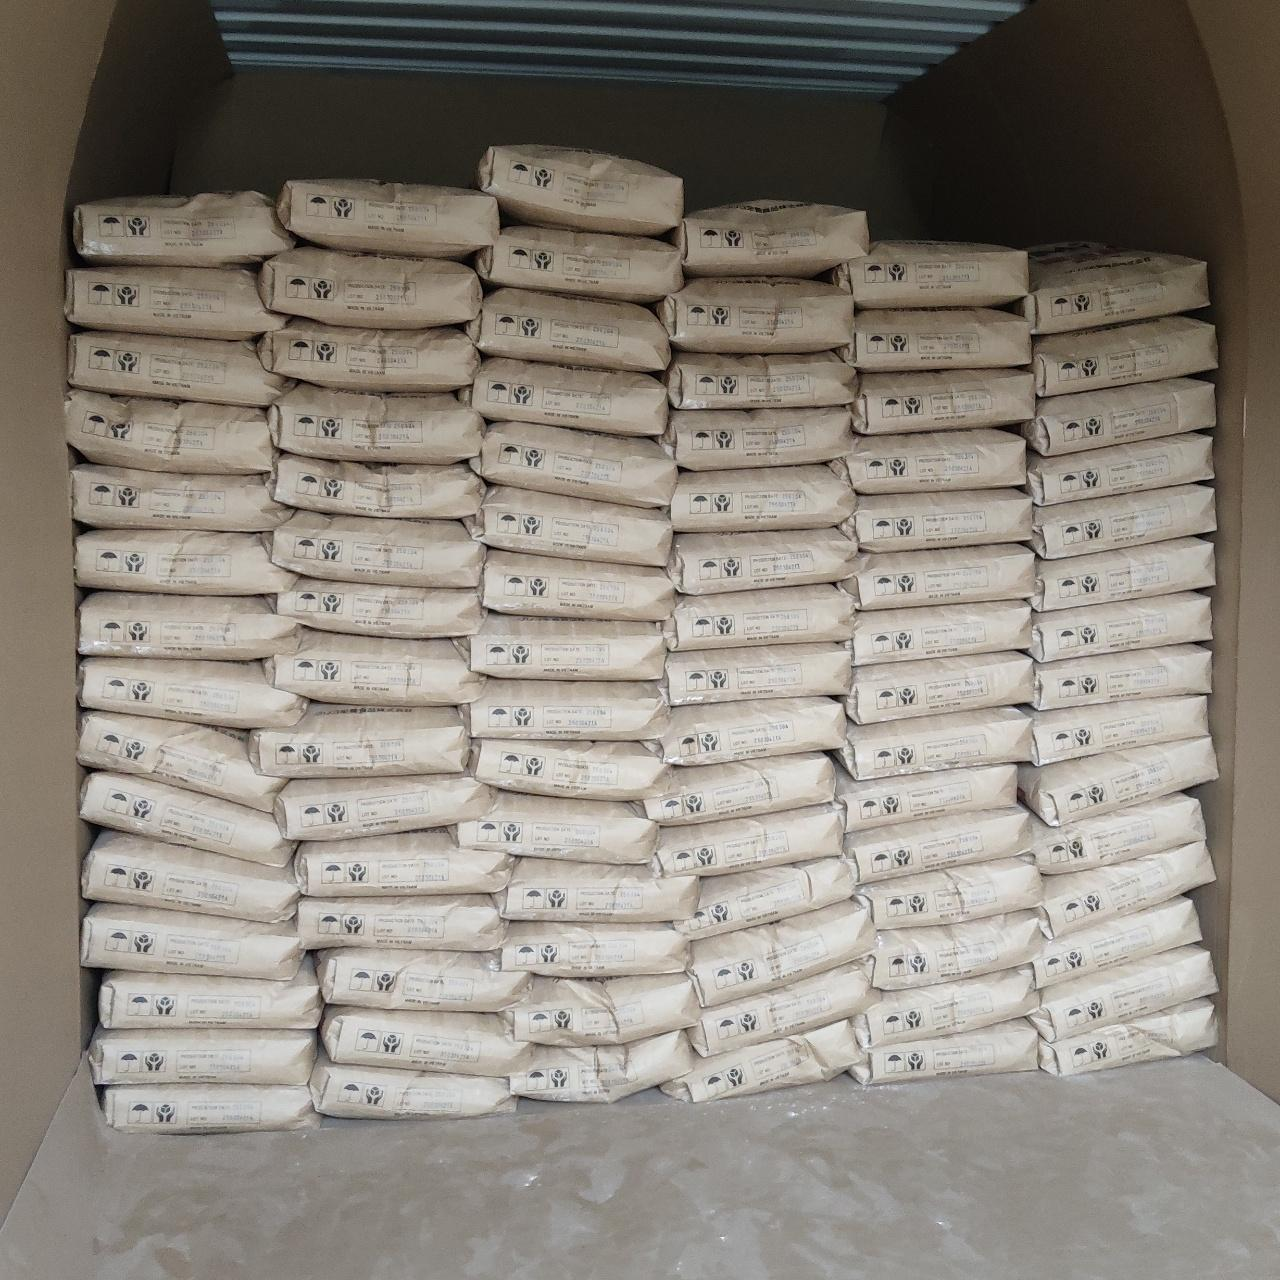sack: (77, 711, 286, 812), (82, 771, 297, 866), (689, 900, 875, 1006), (83, 831, 301, 921), (687, 955, 880, 1056), (477, 144, 683, 236), (259, 246, 482, 328), (1019, 734, 1217, 826), (1008, 243, 1208, 334), (65, 389, 279, 474), (1030, 946, 1217, 1040), (470, 422, 675, 507), (276, 179, 499, 257), (69, 331, 296, 407), (1038, 840, 1214, 938), (81, 903, 304, 979), (463, 485, 672, 566), (270, 383, 483, 462), (467, 288, 669, 371), (458, 358, 668, 437), (74, 191, 294, 266), (259, 318, 480, 392), (845, 805, 1054, 883), (660, 1021, 861, 1102), (272, 510, 485, 586), (267, 630, 483, 704), (475, 226, 682, 303), (66, 267, 285, 339), (250, 705, 469, 777), (852, 965, 1040, 1048), (100, 958, 322, 1028), (79, 659, 304, 728), (79, 591, 304, 660), (640, 803, 843, 878), (657, 274, 852, 352), (673, 855, 855, 938), (1033, 897, 1198, 988), (1023, 378, 1215, 456), (321, 1006, 534, 1076), (452, 791, 659, 863), (1031, 317, 1217, 397), (675, 200, 870, 276), (72, 464, 293, 531), (296, 829, 516, 896), (274, 773, 495, 839), (75, 530, 302, 594), (868, 910, 1045, 990), (642, 752, 834, 825), (838, 707, 1031, 779), (270, 455, 484, 519), (1034, 793, 1205, 873), (505, 974, 700, 1044), (1040, 998, 1217, 1075), (317, 948, 533, 1011), (509, 1030, 698, 1102), (844, 651, 1033, 723), (483, 549, 677, 619), (1032, 485, 1215, 559), (851, 858, 1041, 929), (1027, 433, 1213, 504), (825, 429, 1028, 494), (310, 1055, 516, 1119), (1031, 538, 1214, 610), (455, 616, 667, 678), (666, 528, 859, 595), (838, 544, 1034, 609), (836, 242, 1028, 308), (661, 697, 847, 765), (1031, 592, 1211, 662), (89, 1029, 316, 1084), (663, 585, 853, 650), (836, 764, 1017, 832), (846, 1020, 1038, 1084), (275, 578, 483, 637), (1031, 695, 1208, 764), (839, 308, 1029, 372), (840, 489, 1032, 552), (460, 680, 667, 738), (671, 466, 855, 531), (298, 894, 507, 951), (661, 407, 853, 469), (842, 601, 1029, 664), (503, 859, 698, 919), (852, 370, 1033, 434), (1029, 645, 1210, 709), (665, 643, 850, 704), (470, 740, 660, 798), (500, 921, 689, 978), (668, 352, 855, 409), (100, 1083, 322, 1131)
